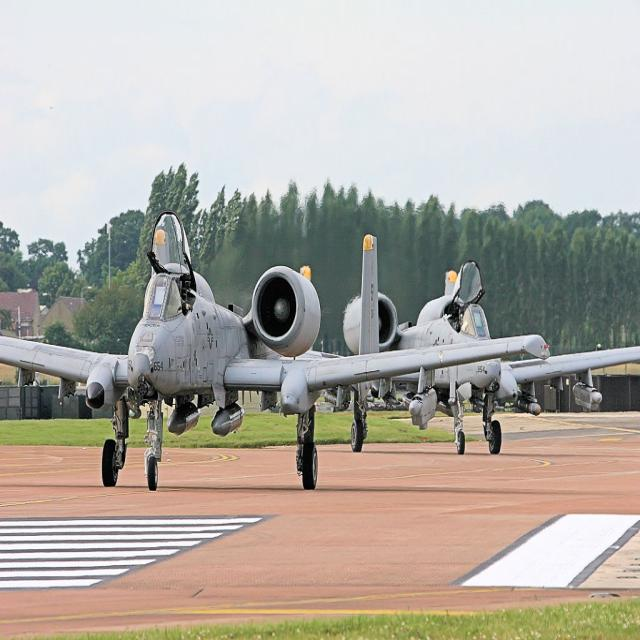MIL_Plane: (1, 210, 552, 490), (281, 258, 640, 454)
